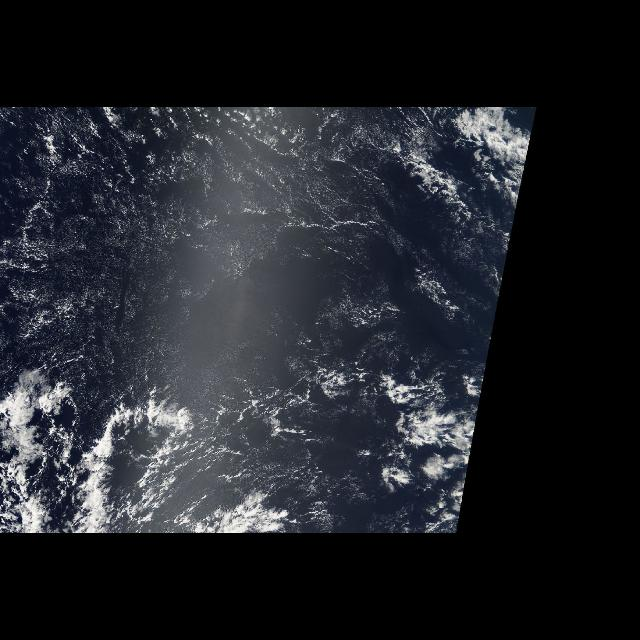Gravel: (3, 108, 404, 290), (172, 394, 328, 514)
Sugar: (2, 127, 410, 390)
